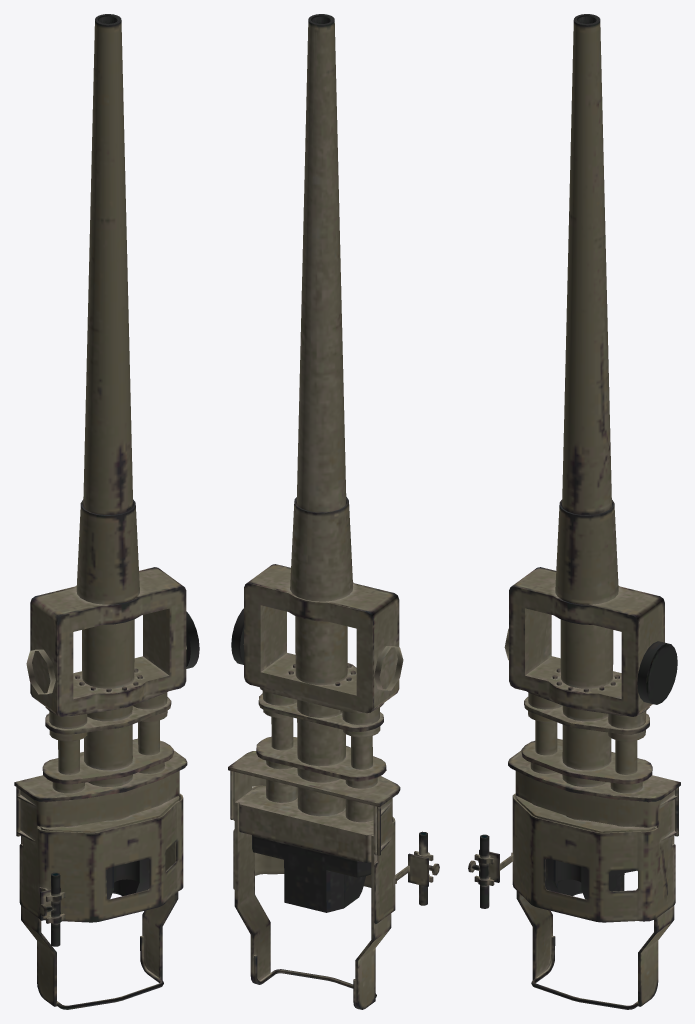
The model's file is Gun_01.glb.
3 views of the same model, side by side, from view 1: azimuth 30°, elevation 25°; view 2: azimuth 150°, elevation 25°; view 3: azimuth 330°, elevation 25° (orthographic).
Parts seen in each view (by area): view 1: set_0_group_0; view 2: set_0_group_0; view 3: set_0_group_0.
Part boxes in pixels (x1=…): set_0_group_0: x1=14, y1=14, x2=199, y2=1009; set_0_group_0: x1=228, y1=14, x2=439, y2=1009; set_0_group_0: x1=468, y1=14, x2=680, y2=1009.
Bounding box in the file's own units: 0.7965 × 4.44 × 0.3847.
Materials: 1 (1 with a texture image).
